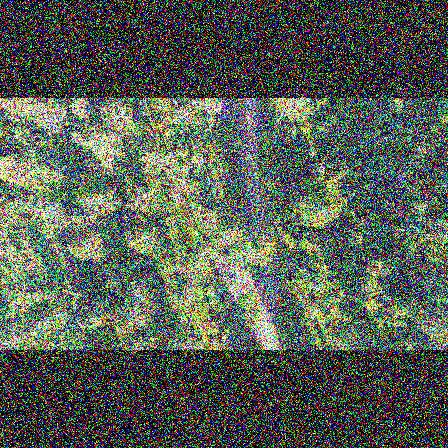Sick: (122, 281, 149, 304)
